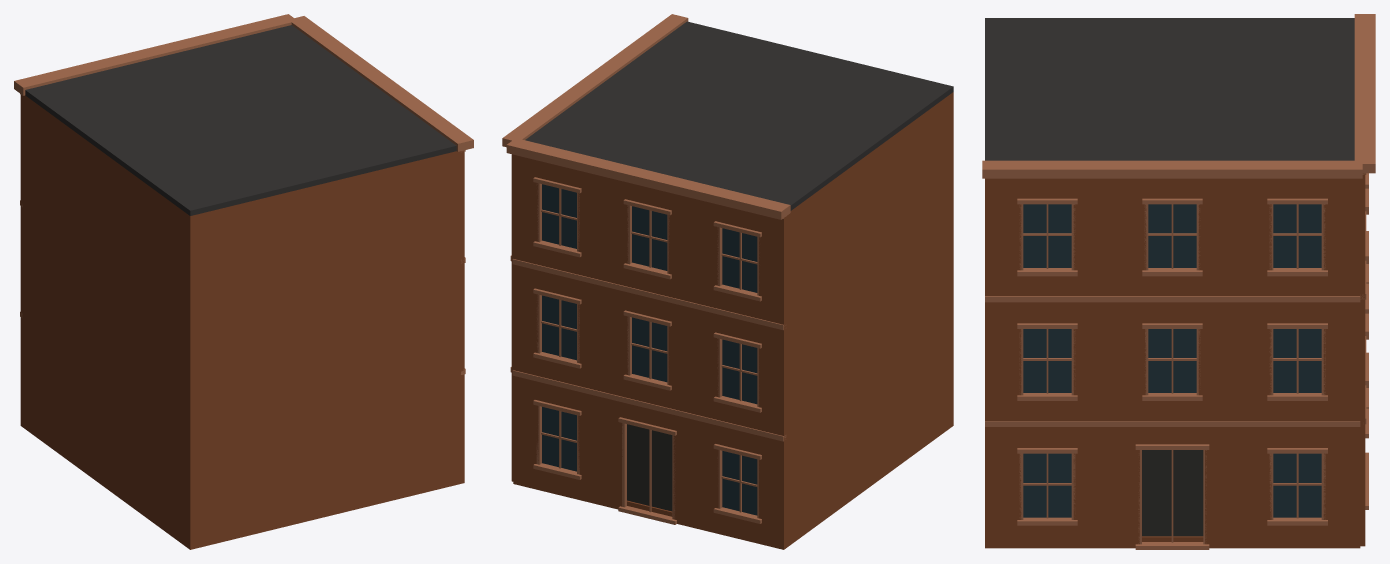
File: residential_3b_3f_corner.obj
3 views of the same model, side by side, from view 1: azimuth 30°, elevation 25°; view 2: azimuth 150°, elevation 25°; view 3: azimuth 270°, elevation 25° (orthographic). The views are drawn at different scales.
Visible parts, largest first — view 1: rear_1, party_wall_2, roof_slab_205, foundation_0, cornice_103, cornice_204; view 2: party_wall_2, roof_slab_205, cornice_103, door_17, cornice_204, wall_pier_3, wall_pier_35, wall_pier_69, wall_pier_23, wall_pier_4, wall_pier_24, wall_pier_57 (+40 smaller); view 3: roof_slab_205, cornice_204, door_118, wall_pier_125, wall_pier_105, wall_pier_159, wall_pier_124, wall_pier_104, wall_pier_193, wall_pier_148, wall_pier_158, wall_pier_137 (+46 smaller).
Part boxes in pixels (x1=…): rear_1: x1=185, y1=151, x2=460, y2=549; party_wall_2: x1=23, y1=95, x2=197, y2=549; roof_slab_205: x1=25, y1=25, x2=456, y2=215; foundation_0: x1=23, y1=420, x2=460, y2=549; cornice_103: x1=14, y1=14, x2=297, y2=95; cornice_204: x1=289, y1=16, x2=473, y2=151; party_wall_2: x1=786, y1=92, x2=953, y2=545; roof_slab_205: x1=525, y1=21, x2=953, y2=210; cornice_103: x1=506, y1=138, x2=790, y2=219; door_17: x1=627, y1=424, x2=672, y2=511; cornice_204: x1=502, y1=14, x2=688, y2=147; wall_pier_3: x1=759, y1=435, x2=788, y2=549; wall_pier_35: x1=759, y1=324, x2=788, y2=438; wall_pier_69: x1=759, y1=214, x2=788, y2=326; wall_pier_23: x1=578, y1=391, x2=603, y2=505; wall_pier_4: x1=693, y1=420, x2=718, y2=533; wall_pier_24: x1=513, y1=376, x2=538, y2=489; wall_pier_57: x1=578, y1=280, x2=603, y2=391; roof_slab_205: x1=985, y1=18, x2=1354, y2=160; cornice_204: x1=982, y1=160, x2=1362, y2=178; door_118: x1=1142, y1=450, x2=1203, y2=536; wall_pier_125: x1=1323, y1=427, x2=1360, y2=548; wall_pier_105: x1=1073, y1=427, x2=1109, y2=548; wall_pier_159: x1=1323, y1=302, x2=1360, y2=420; wall_pier_124: x1=1235, y1=427, x2=1271, y2=548; wall_pier_104: x1=985, y1=427, x2=1021, y2=548; wall_pier_193: x1=1323, y1=178, x2=1360, y2=295; wall_pier_148: x1=1198, y1=302, x2=1234, y2=420; wall_pier_158: x1=1235, y1=302, x2=1271, y2=420; wall_pier_137: x1=1073, y1=302, x2=1109, y2=420.
Size of the model in its own units: 8.83 by 10.14 by 9.43.
